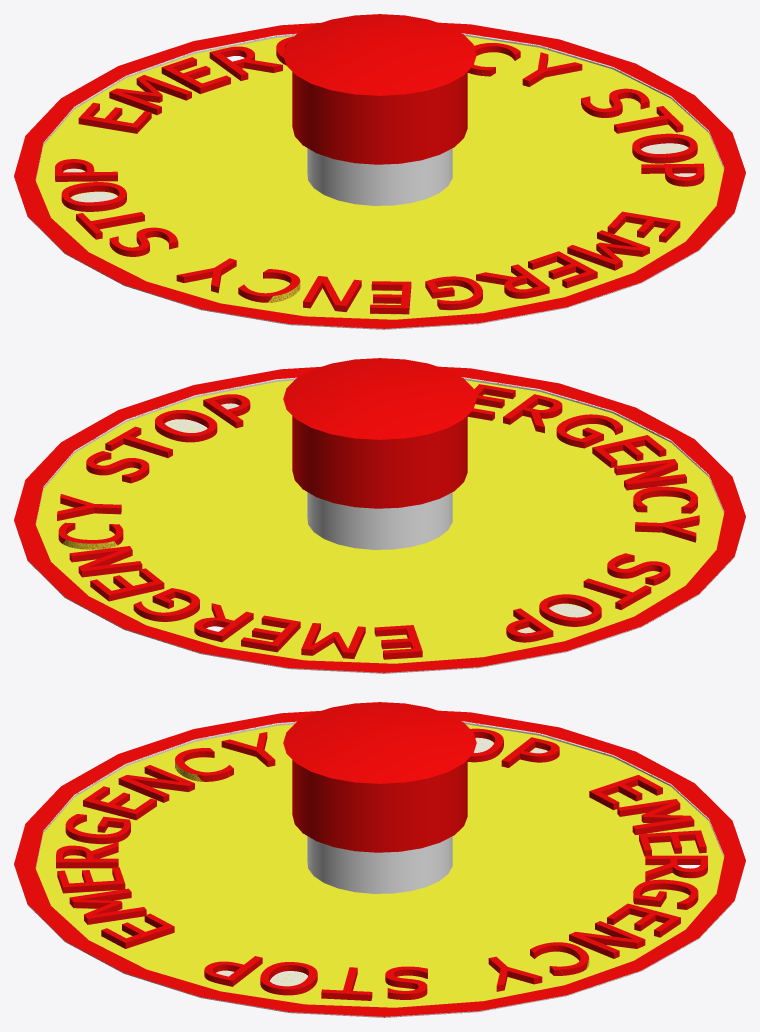
File: Emergency_stop.dae
3 renders of one model, top to bottom at view 1: azimuth 30°, elevation 25°; view 2: azimuth 150°, elevation 25°; view 3: azimuth 270°, elevation 25°, orthographic.
Parts seen in each view (by area): view 1: SketchUp (×6), group_3 (×15), group_2 (×8); view 2: SketchUp (×6), group_3 (×16), group_2 (×8); view 3: SketchUp (×6), group_3 (×18), group_2 (×6).
Boxes of the visible parts, left/top/right/bottom form: SketchUp (×6): left=14, top=14, right=745, bottom=329; group_3 (×15): left=78, top=43, right=680, bottom=314; group_2 (×8): left=55, top=88, right=704, bottom=256; SketchUp (×6): left=14, top=358, right=745, bottom=673; group_3 (×16): left=57, top=384, right=699, bottom=659; group_2 (×8): left=86, top=394, right=670, bottom=642; SketchUp (×6): left=14, top=702, right=745, bottom=1017; group_3 (×18): left=56, top=732, right=707, bottom=991; group_2 (×6): left=204, top=728, right=559, bottom=1000.
Size of the model in its own units: 111 by 111 by 22.76.
